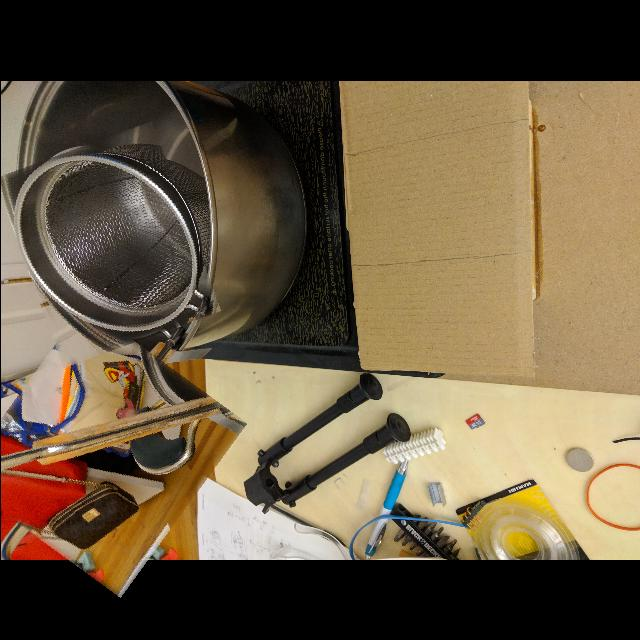Handle: (0, 324, 223, 579)
Strainer: (8, 133, 205, 357)
